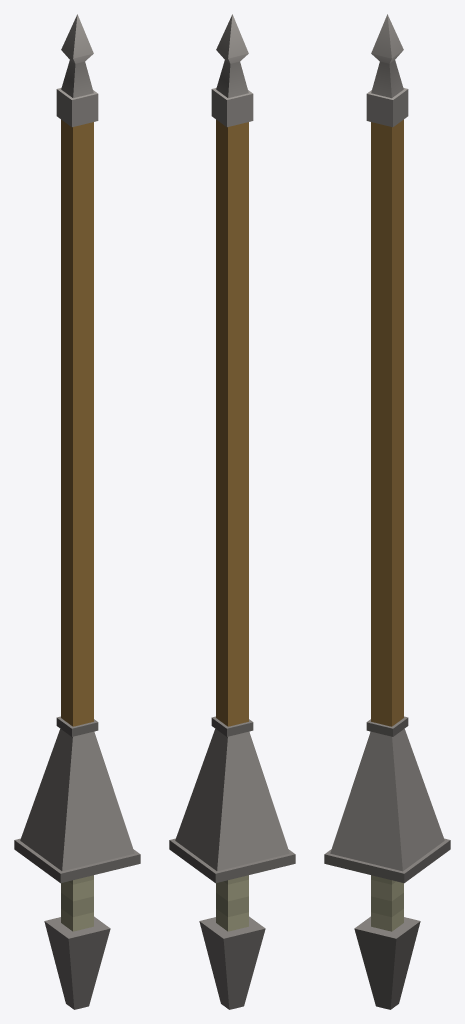
The model's file is SF_Wep_Human_Lance_01.fbx.
The picture shows the model from 3 angles, left to right: view 1: azimuth 30°, elevation 25°; view 2: azimuth 210°, elevation 25°; view 3: azimuth 330°, elevation 25°; orthographic projection.
Visible parts, largest first — view 1: SF_Wep_Human_Lance_01; view 2: SF_Wep_Human_Lance_01; view 3: SF_Wep_Human_Lance_01.
Boxes of the visible parts, x1,y1,x2,y2 form: SF_Wep_Human_Lance_01: (14,14,140,1009); SF_Wep_Human_Lance_01: (169,14,295,1009); SF_Wep_Human_Lance_01: (324,14,450,1009).
Bounding box in the file's own units: 0.5011 × 5.93 × 0.5011.
